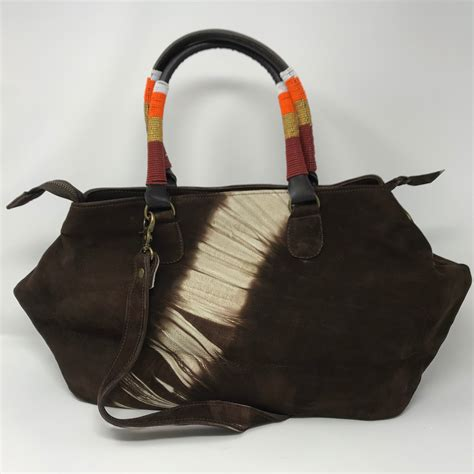gamuza: (11, 176, 471, 420)
